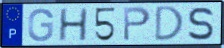5: (94, 6, 118, 43)
D: (153, 5, 186, 43)
G: (27, 7, 55, 43)
H: (57, 7, 90, 43)
P: (122, 6, 153, 42)
S: (187, 6, 216, 42)
